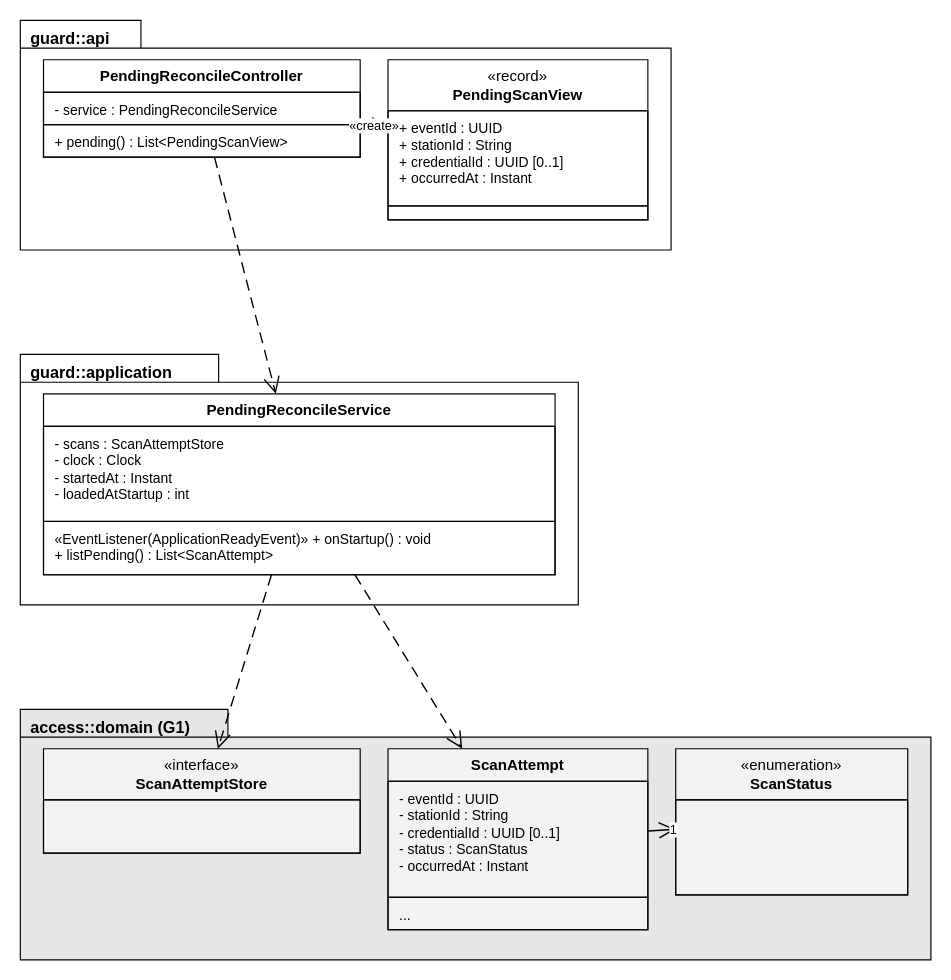
This 951x980 diagram has some shape labels left out. The shapes that lost their labels are listed below. From the top down, each one's centre as x and y in pixels, then its label:
the point at 201,826: + findPending() : List<ScanAttempt> ...
the point at 791,847: PENDING ACCEPTED REJECTED GATE_FAILED
